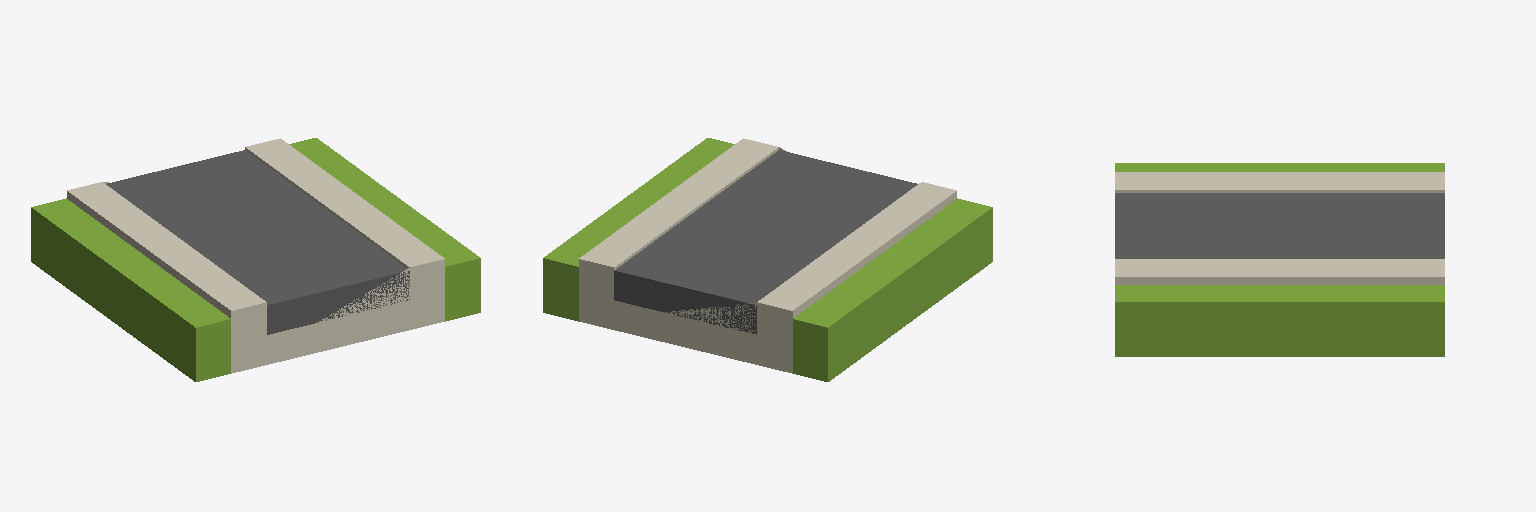
File: roadTile_162.obj
3 renders of one model, left to right at view 1: azimuth 30°, elevation 25°; view 2: azimuth 150°, elevation 25°; view 3: azimuth 270°, elevation 25°, orthographic.
Visible parts, largest first — view 1: Mesh1_Group1_Model; view 2: Mesh1_Group1_Model; view 3: Mesh1_Group1_Model.
Boxes of the visible parts, box(x1,y1,x2,y2) form: Mesh1_Group1_Model: box(31, 138, 480, 381); Mesh1_Group1_Model: box(543, 138, 992, 381); Mesh1_Group1_Model: box(1115, 163, 1444, 356).
Size of the model in its own units: 1.08 by 0.2268 by 1.08.